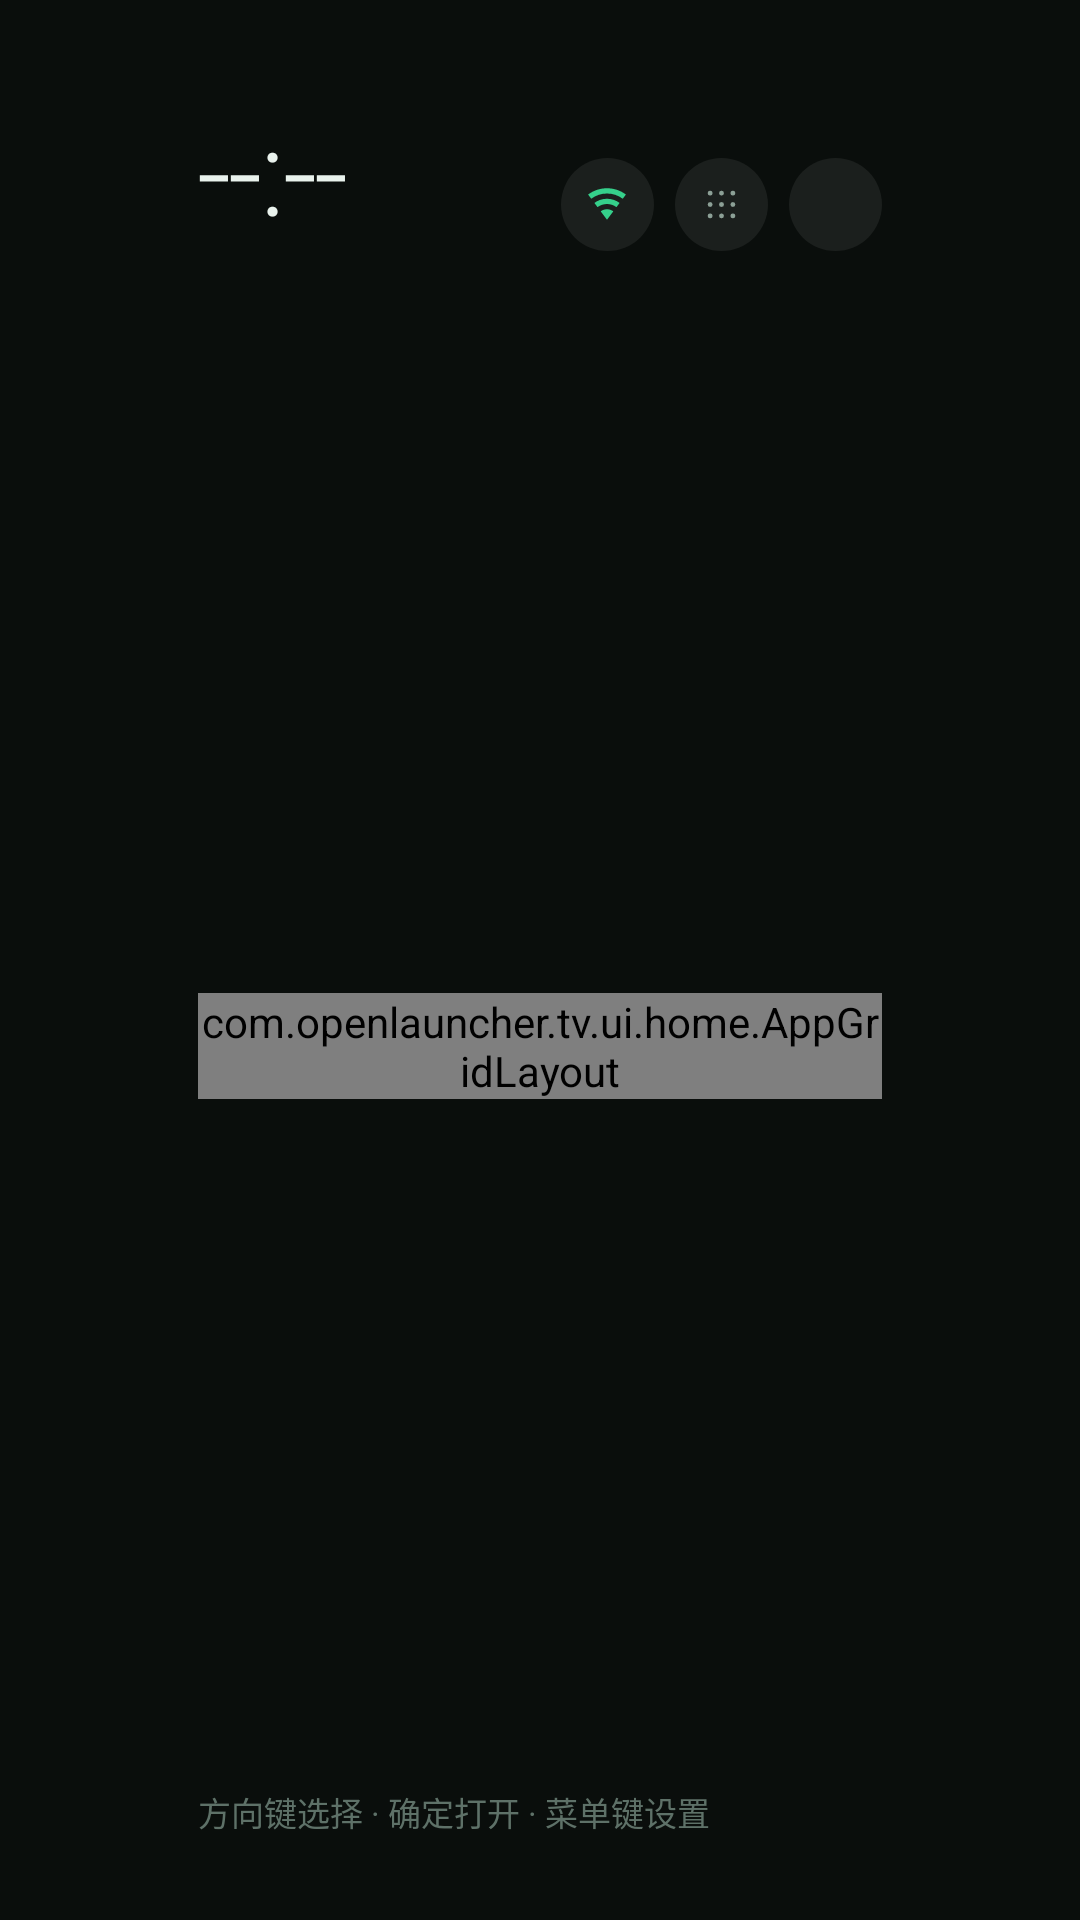

Point at icon controls on the screen. Image size 1080*1920, points as (x,y).
全部应用: (721,204)
网络连接: (607,204)
